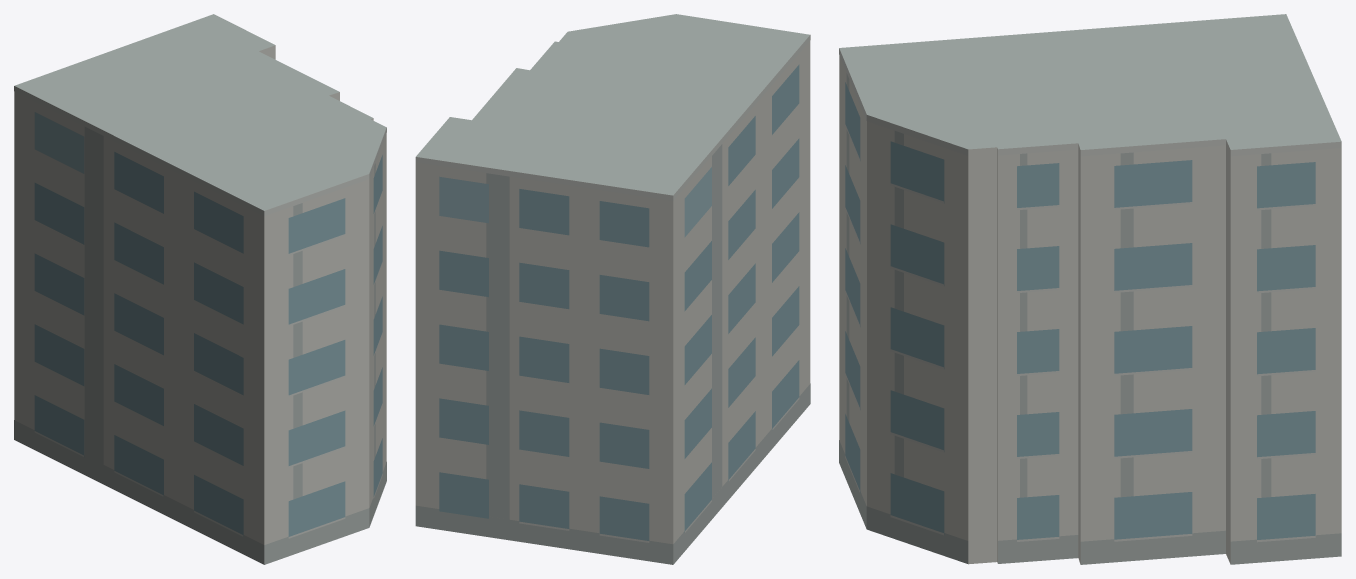
File: survey-upis-32878721.glb
The picture shows the model from 3 angles, left to right: view 1: azimuth 30°, elevation 25°; view 2: azimuth 150°, elevation 25°; view 3: azimuth 270°, elevation 25°; orthographic projection. The views are drawn at different scales.
Parts seen in each view (by area): view 1: survey-upis-32878721.tmp; view 2: survey-upis-32878721.tmp; view 3: survey-upis-32878721.tmp.
Part boxes in pixels (x1,y1,x2,y2): survey-upis-32878721.tmp: (14, 14, 386, 564); survey-upis-32878721.tmp: (415, 14, 810, 564); survey-upis-32878721.tmp: (839, 14, 1341, 564).
Bounding box in the file's own units: 11.2 × 15.9 × 17.47.
